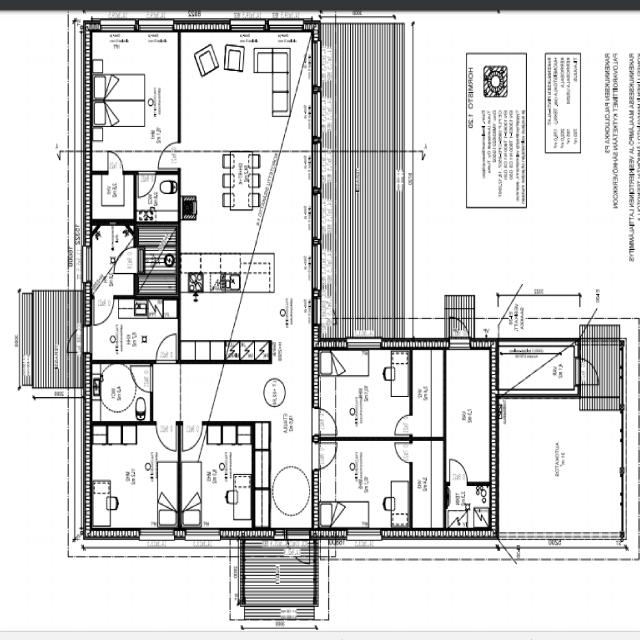door: (287, 527, 309, 569), (63, 325, 92, 352), (450, 310, 470, 348), (312, 443, 339, 470), (573, 358, 601, 384), (312, 298, 339, 324), (312, 408, 338, 433), (112, 247, 136, 274), (94, 295, 114, 326), (156, 334, 176, 364), (130, 365, 152, 392), (157, 422, 176, 451), (159, 143, 181, 167), (184, 422, 202, 450), (139, 170, 156, 197), (450, 459, 467, 485), (394, 414, 413, 434), (394, 443, 413, 462), (108, 150, 123, 174)
